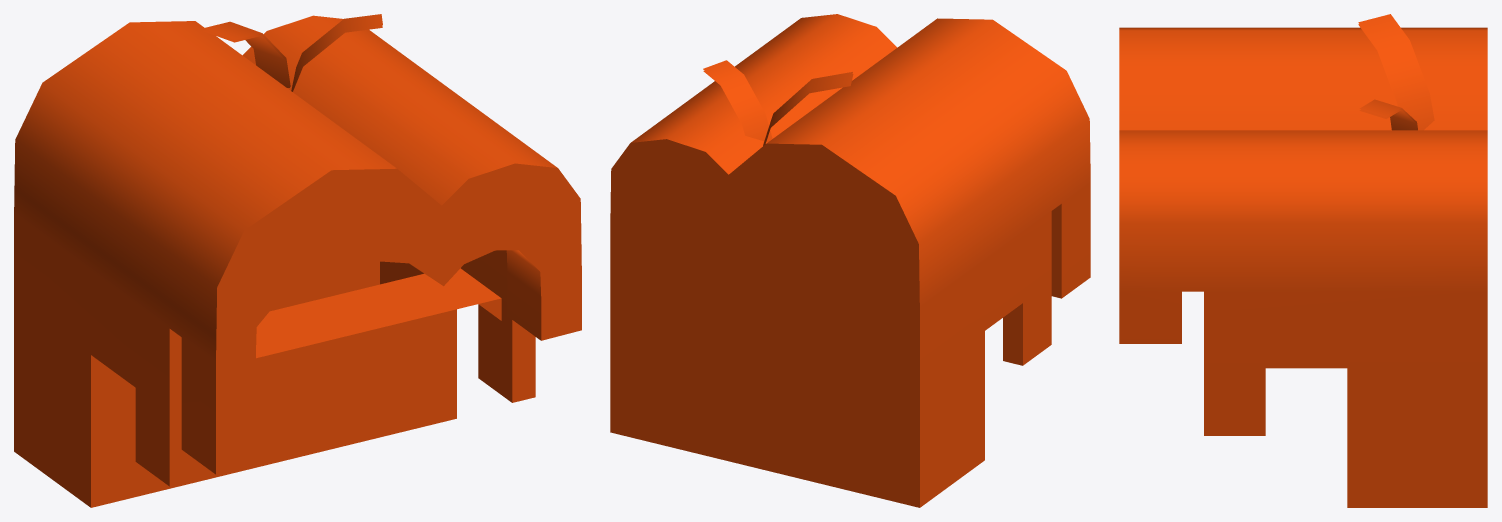
Rendered from Hair Male 06.FBX.
The picture shows the model from 3 angles, left to right: view 1: azimuth 30°, elevation 25°; view 2: azimuth 150°, elevation 25°; view 3: azimuth 270°, elevation 25°; orthographic projection. The views are drawn at different scales.
Parts seen in each view (by area): view 1: Hair Male 06; view 2: Hair Male 06; view 3: Hair Male 06.
Part boxes in pixels (x1,y1,x2,y2): Hair Male 06: (14,14,581,507); Hair Male 06: (610,14,1090,507); Hair Male 06: (1119,14,1487,507).
Size of the model in its own units: 55.93 by 62.66 by 53.45.
Materials: 1 (1 with a texture image).
